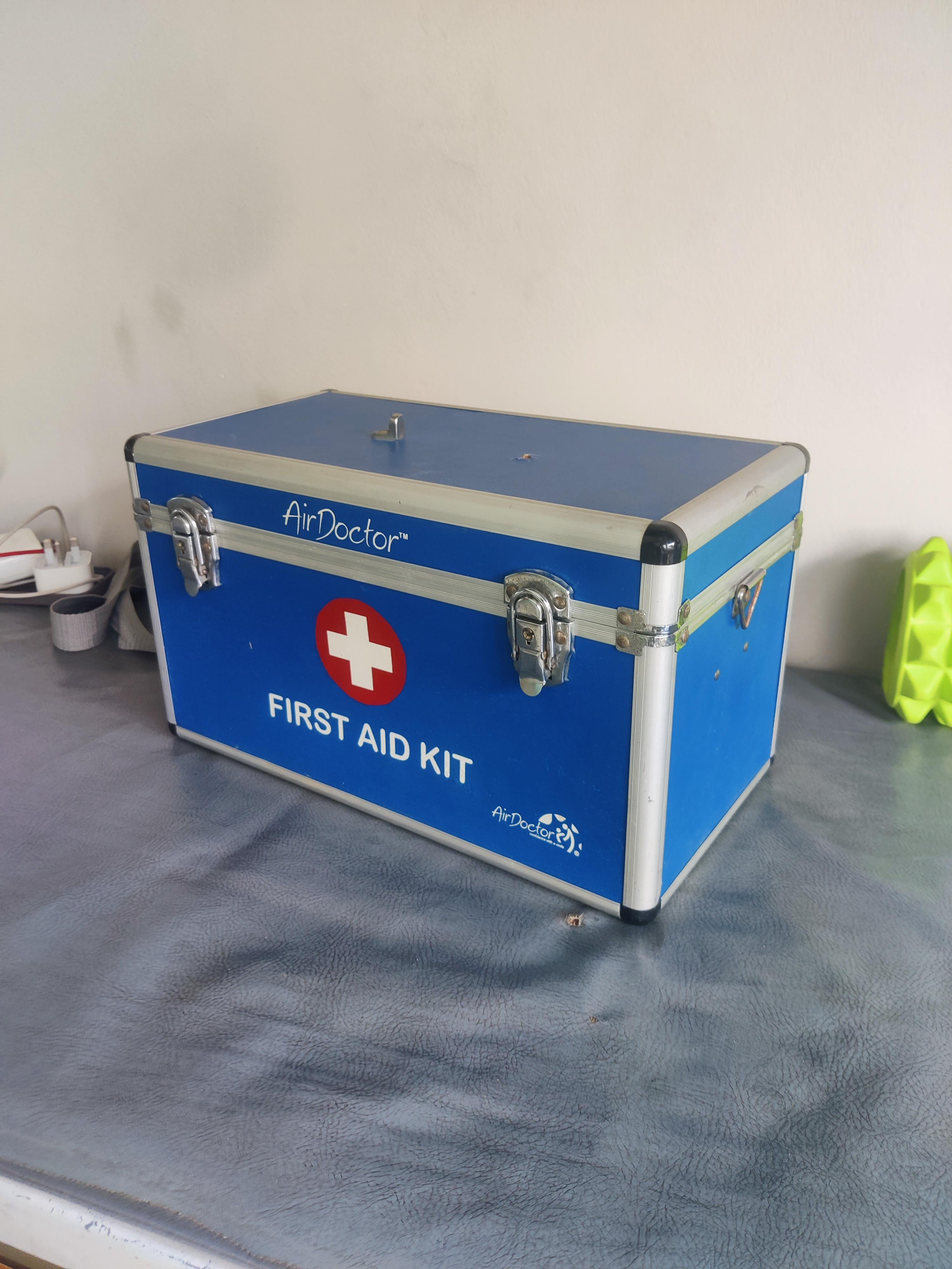FirstAidBox: (121, 360, 826, 976)
